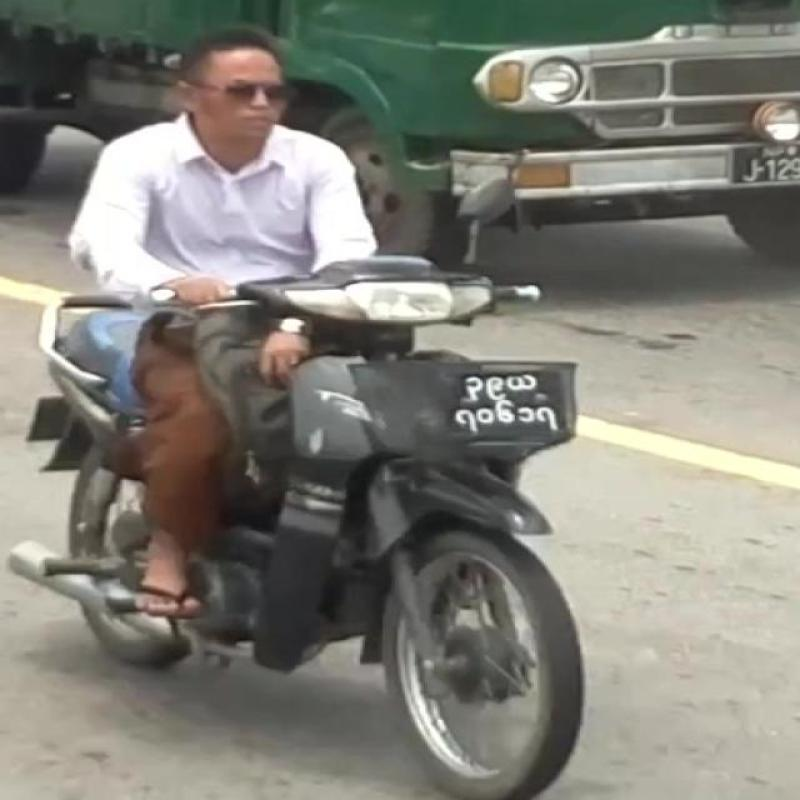nohelmet: (172, 18, 347, 133)
